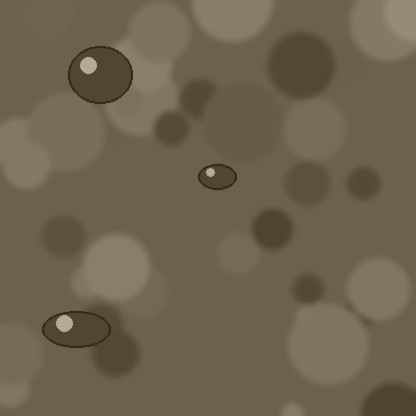gota: (68, 48, 132, 108), (42, 312, 110, 350), (198, 165, 236, 191)
